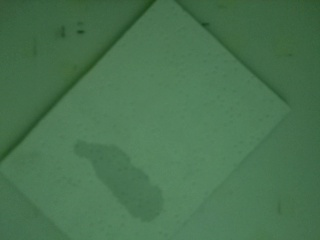Water_detected: (91, 153, 158, 210)
